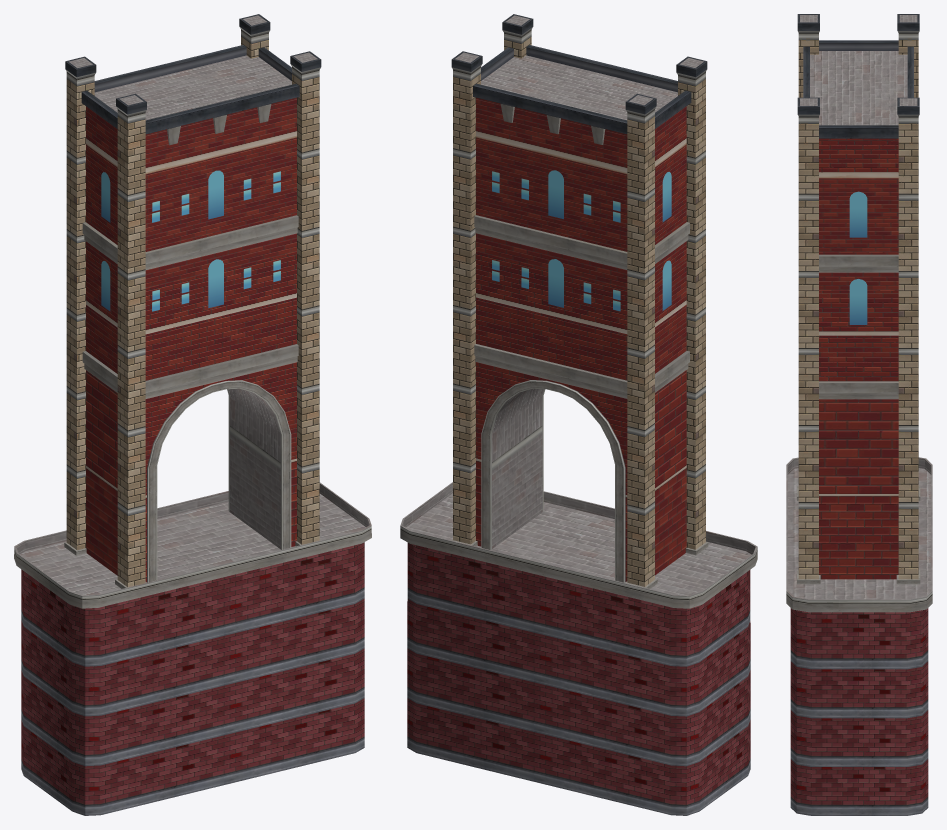
The model's file is BridgePillar_Big.fbx.
3 views of the same model, side by side, from view 1: azimuth 30°, elevation 25°; view 2: azimuth 150°, elevation 25°; view 3: azimuth 270°, elevation 25° (orthographic).
Parts seen in each view (by area): view 1: BridgeBigPillar; view 2: BridgeBigPillar; view 3: BridgeBigPillar.
Boxes of the visible parts, x1,y1,x2,y2 form: BridgeBigPillar: (14,14,371,815); BridgeBigPillar: (400,14,757,815); BridgeBigPillar: (786,14,932,815).
Size of what is drawn, in the model's own units: 74.31 by 165 by 31.95.
